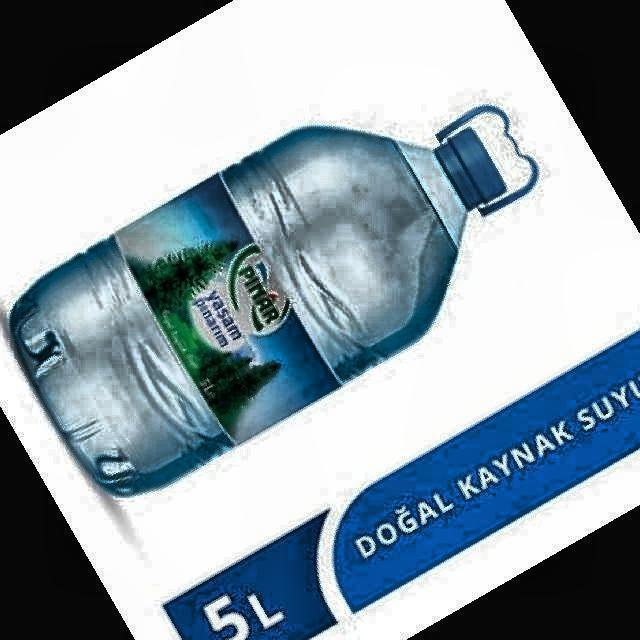plastic: (9, 105, 538, 495)
